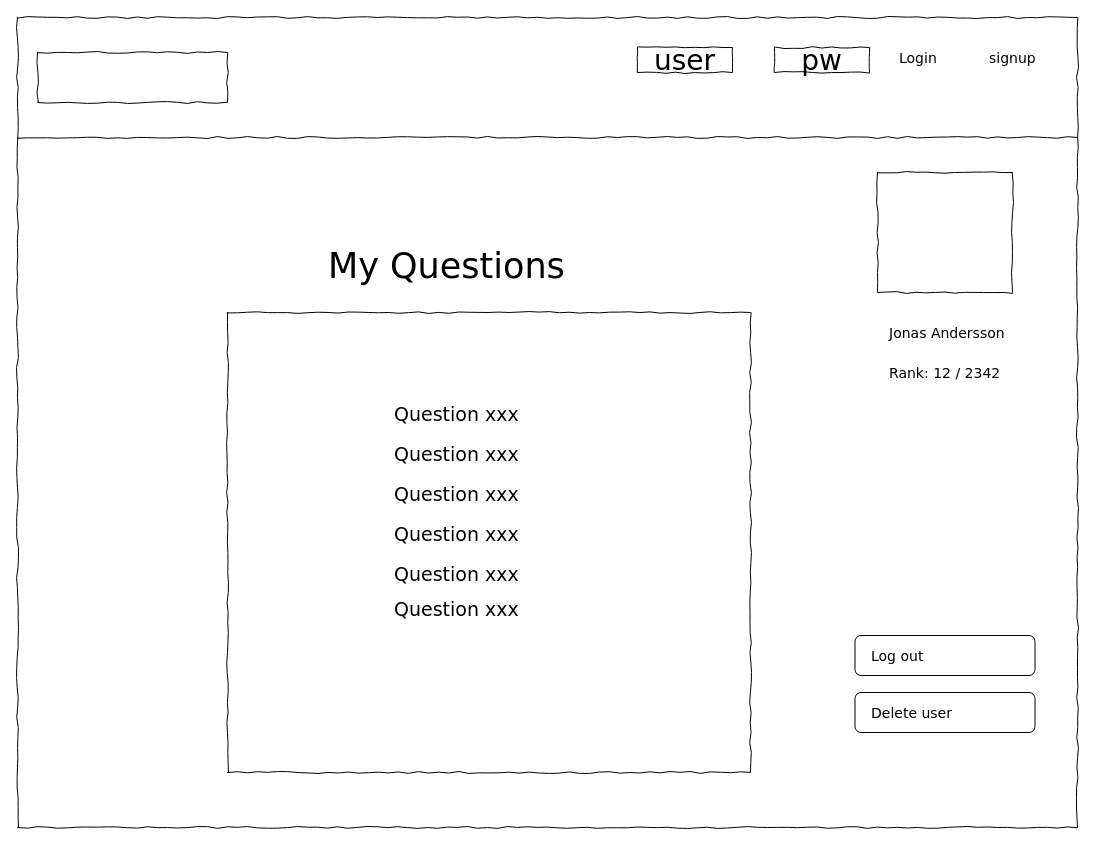
Some shapes in this 1095 by 845 pixel diagram are drawn without their labels. The centre of each missing label's shape, as x and y in pixels:
"BILD" goes at [944,232].
"LOGO" goes at [132,77].
